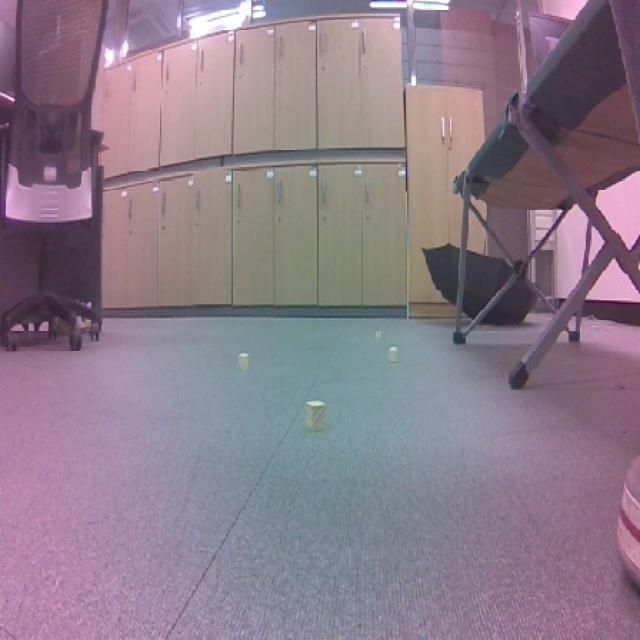obstacle: (299, 392, 333, 440)
